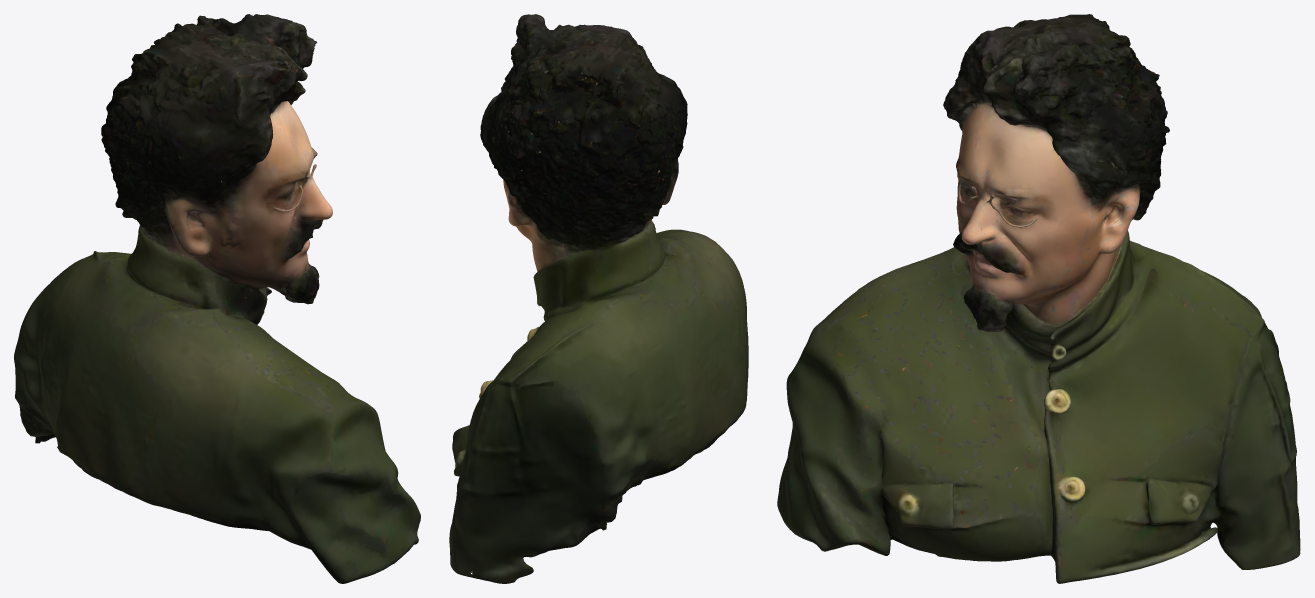
The model's file is trotsky.glb.
3 renders of one model, left to right at view 1: azimuth 30°, elevation 25°; view 2: azimuth 150°, elevation 25°; view 3: azimuth 270°, elevation 25°, orthographic. The views are drawn at different scales.
Visible parts, largest first — view 1: world; view 2: world; view 3: world.
Part boxes in pixels (bbox=[...]): world: bbox=[14, 14, 420, 583]; world: bbox=[449, 14, 748, 583]; world: bbox=[777, 14, 1300, 583].
Bounding box in the file's own units: 0.5387 × 1 × 0.9036.
Materials: 1 (1 with a texture image).
